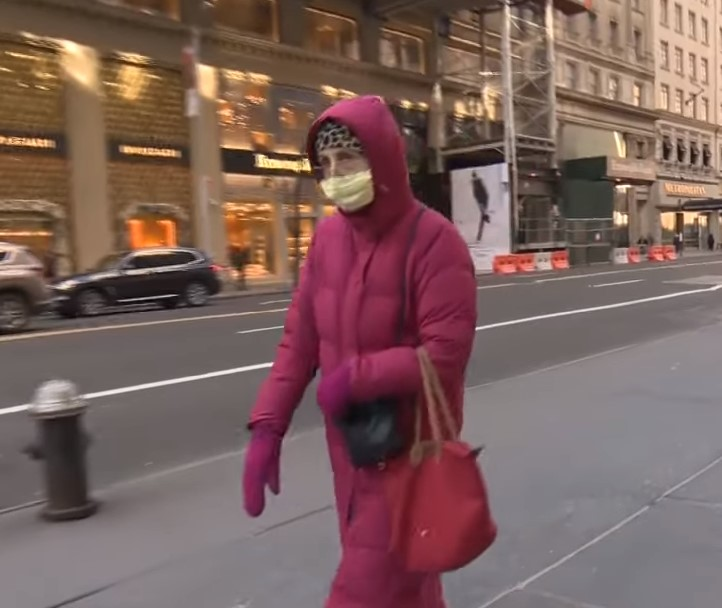face_with_mask: (314, 98, 412, 215)
